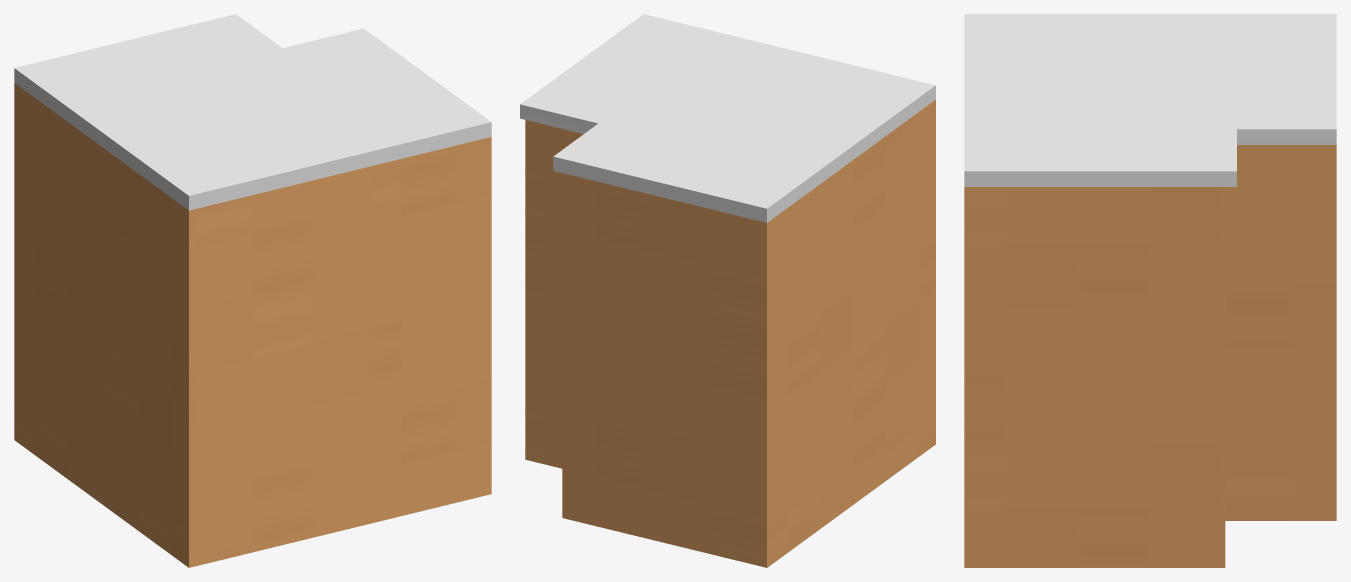
File: CabinetBCorner01.glb
3 views of the same model, side by side, from view 1: azimuth 30°, elevation 25°; view 2: azimuth 150°, elevation 25°; view 3: azimuth 270°, elevation 25° (orthographic). The views are drawn at different scales.
Visible parts, largest first — view 1: CabinetBCorner01_model; view 2: CabinetBCorner01_model; view 3: CabinetBCorner01_model.
Part boxes in pixels (box(x1,y1,x2,y2)): CabinetBCorner01_model: box(14, 14, 491, 567); CabinetBCorner01_model: box(520, 14, 935, 567); CabinetBCorner01_model: box(964, 14, 1336, 567).
Size of the model in its own units: 1.72 by 2.02 by 1.72.
Materials: 1 (1 with a texture image).
